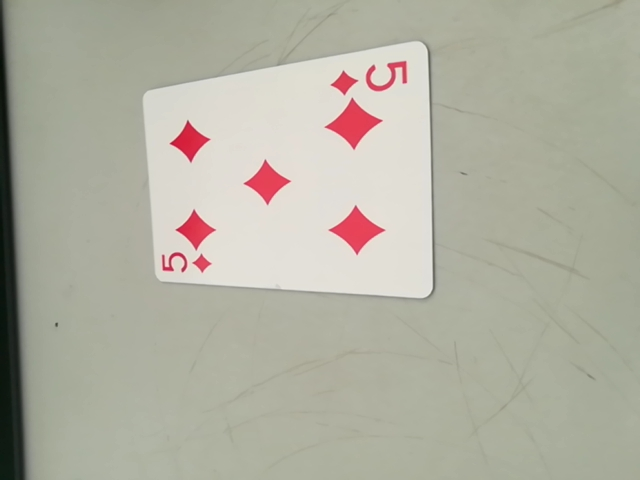fk 5: (329, 54, 411, 97), (156, 246, 215, 281)
